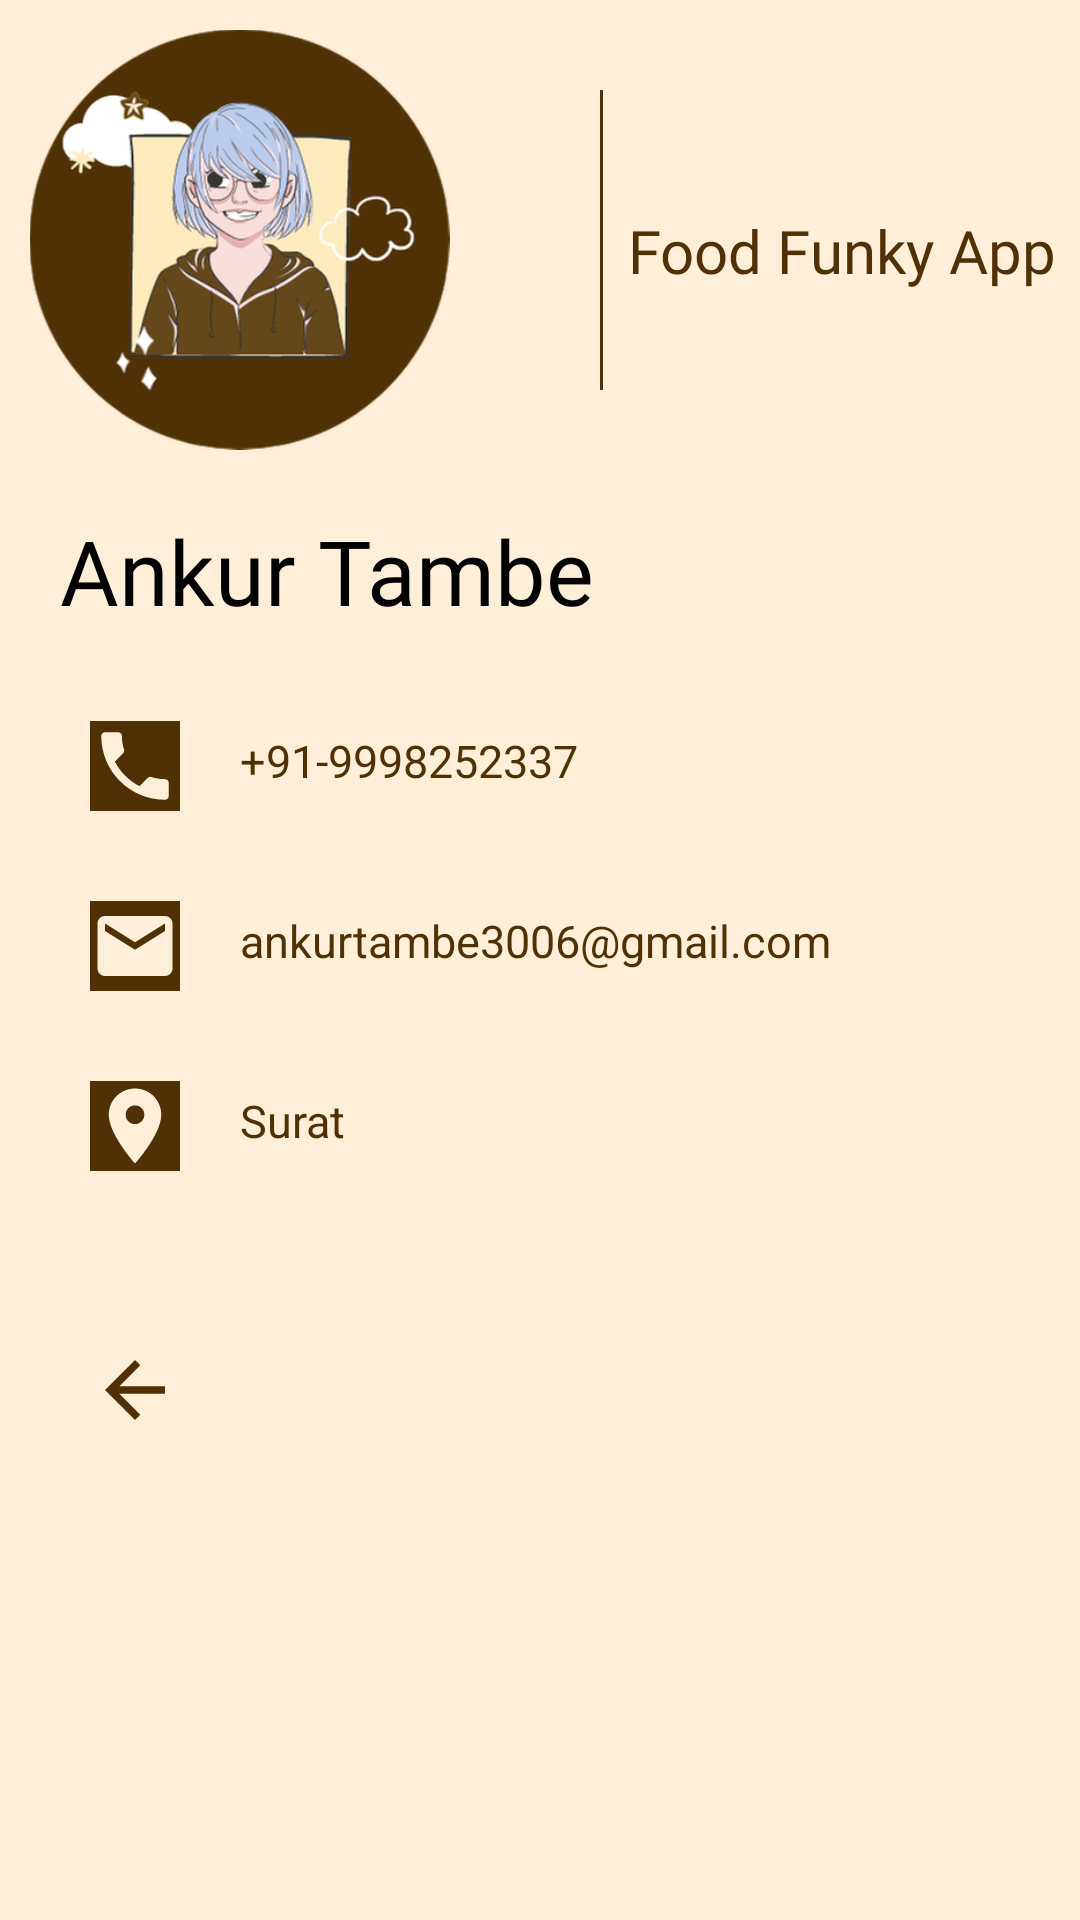

Named icons in this screenshot (1080x1920) and their centers, [x,y]:
address: [135,1126]
back arrow: [135,1390]
email: [135,946]
phone: [135,766]
